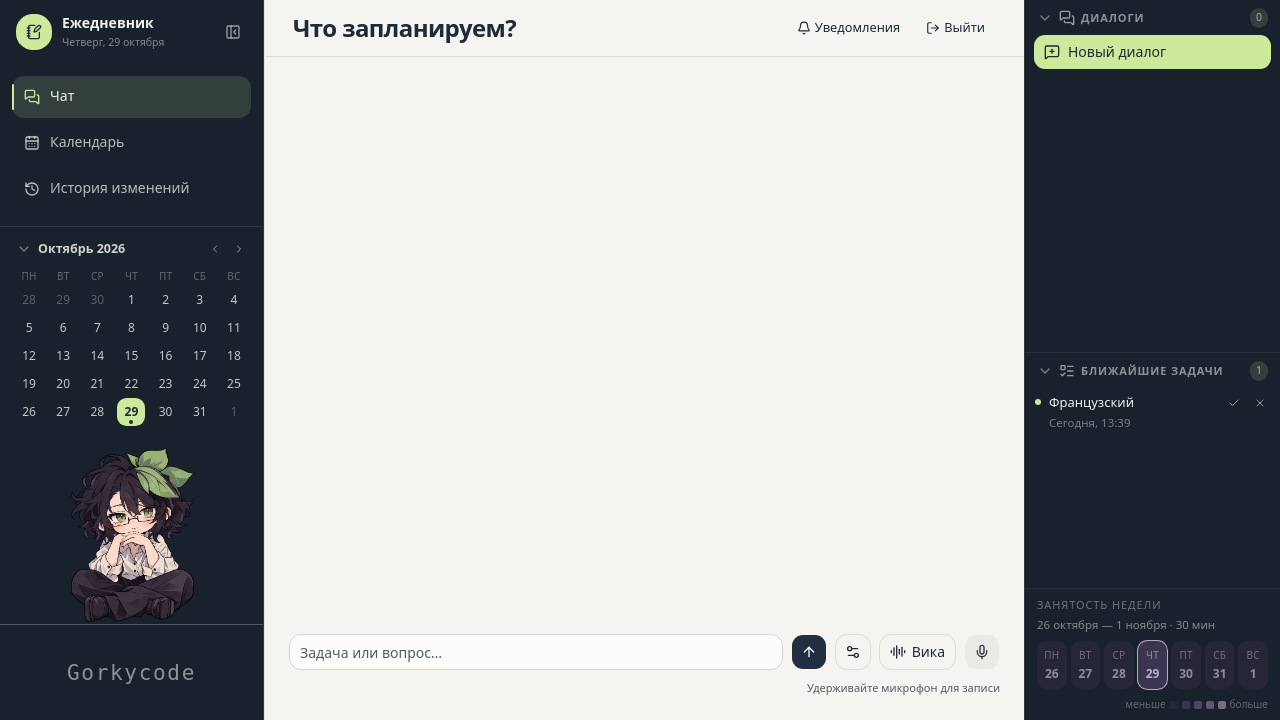
Test: planner chat › cancels one occurrence of a recurring task from the calendar panel
This screenshot has width=1280, height=720.
Click the button "Календарь".
click(132, 143)  # box [12,122,251,164]
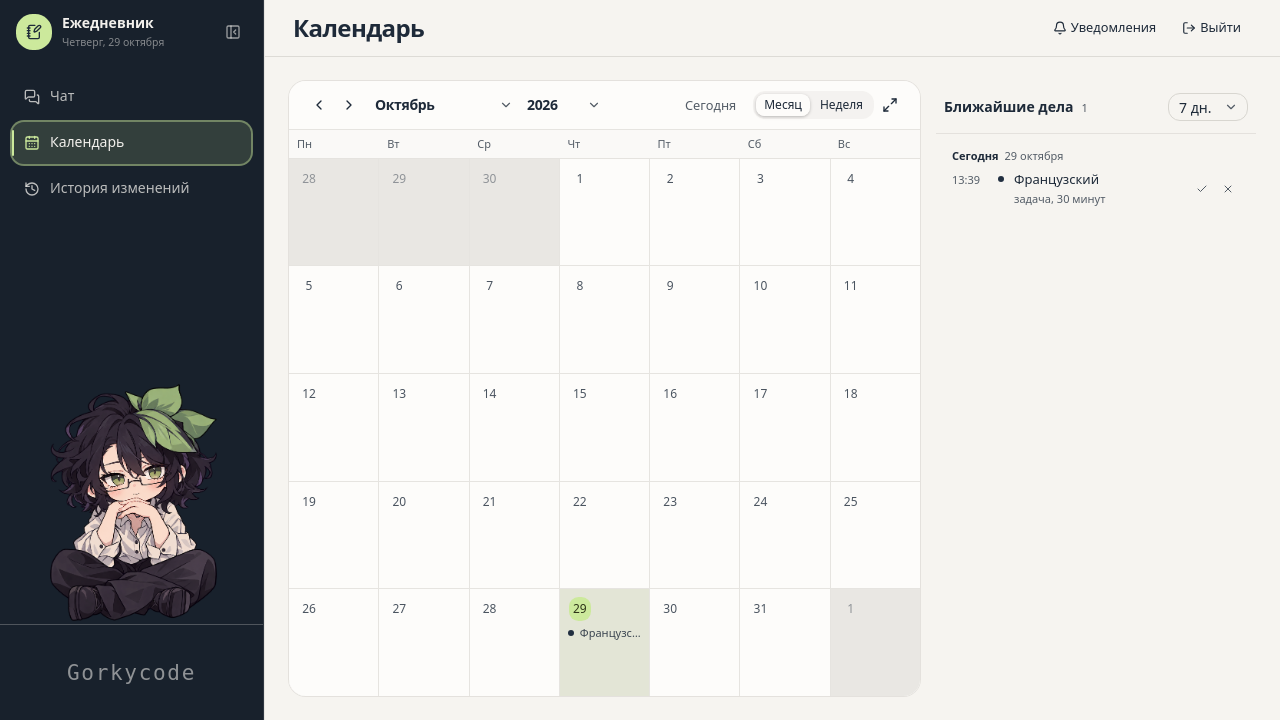
Click the button named "Отменить «Французский»".
click(1228, 188)  # box [1216,176,1240,200]
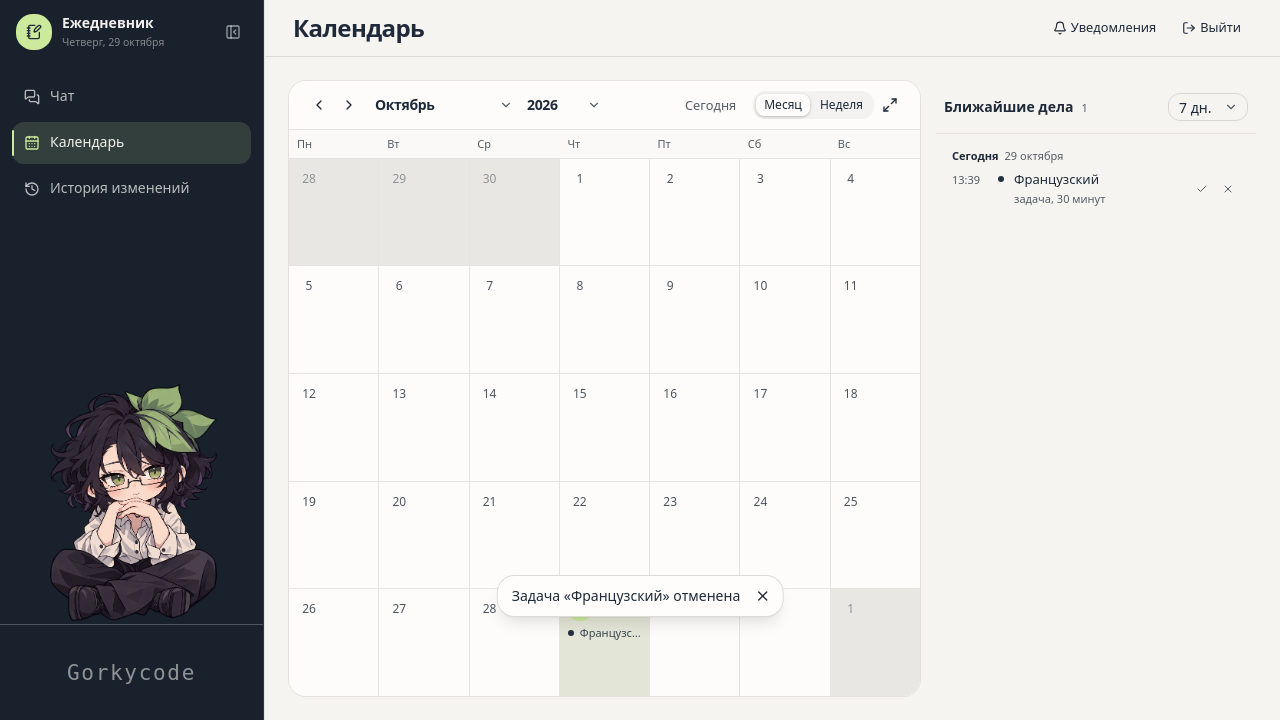
Now the message reads "Задача «Французский» отменена", box [512,586,740,605]
